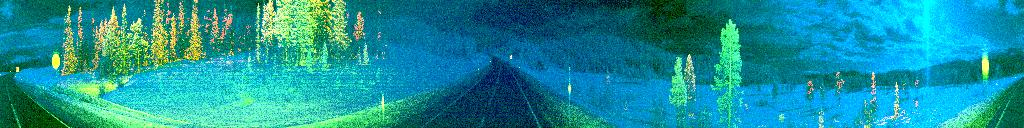pole: (566, 65, 574, 123), (378, 88, 387, 126)
